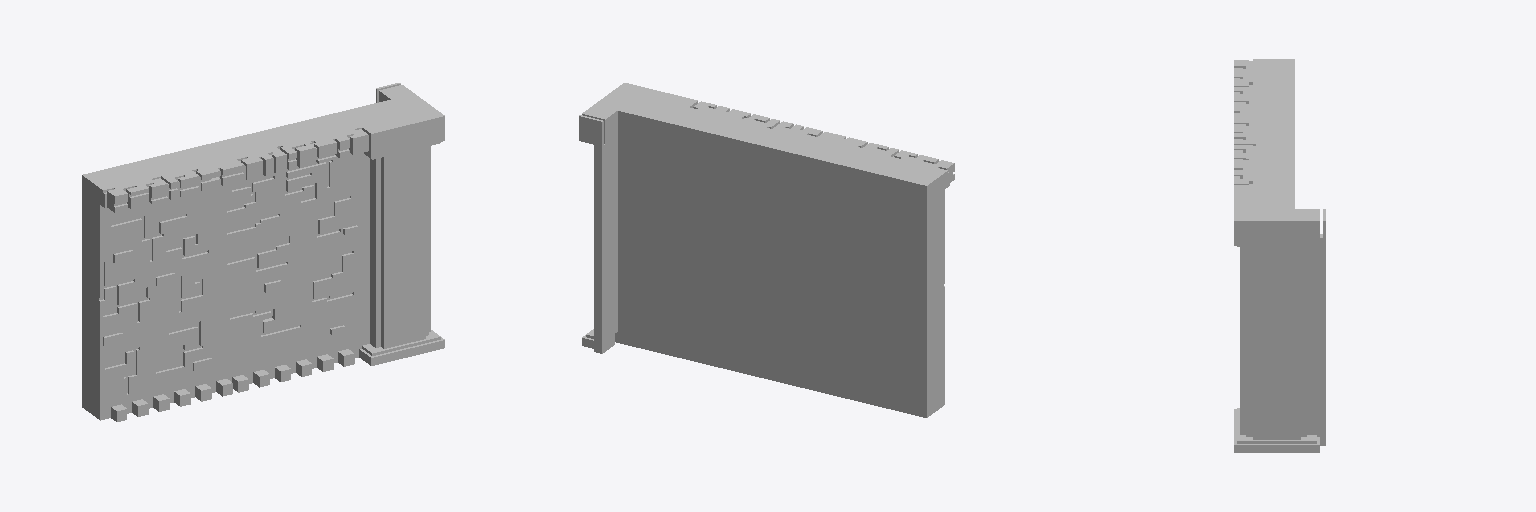
File: róg R.obj
The picture shows the model from 3 angles: view 1: azimuth 30°, elevation 25°; view 2: azimuth 150°, elevation 25°; view 3: azimuth 270°, elevation 25°; orthographic projection.
Parts seen in each view (by area): view 1: object 1; view 2: object 1; view 3: object 1.
Boxes of the visible parts, x1,y1,x2,y2 form: object 1: [82, 83, 444, 421]; object 1: [579, 83, 954, 417]; object 1: [1234, 59, 1325, 452].
Bounding box in the file's own units: 12.6 × 8.4 × 3.